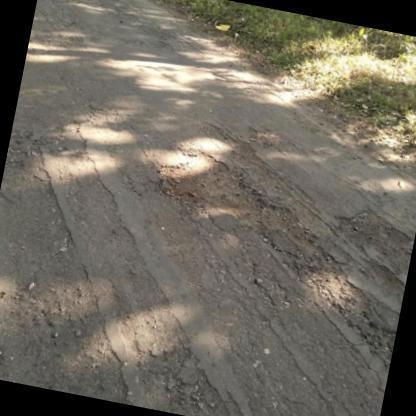pothole: (160, 142, 334, 274), (335, 200, 416, 287)
